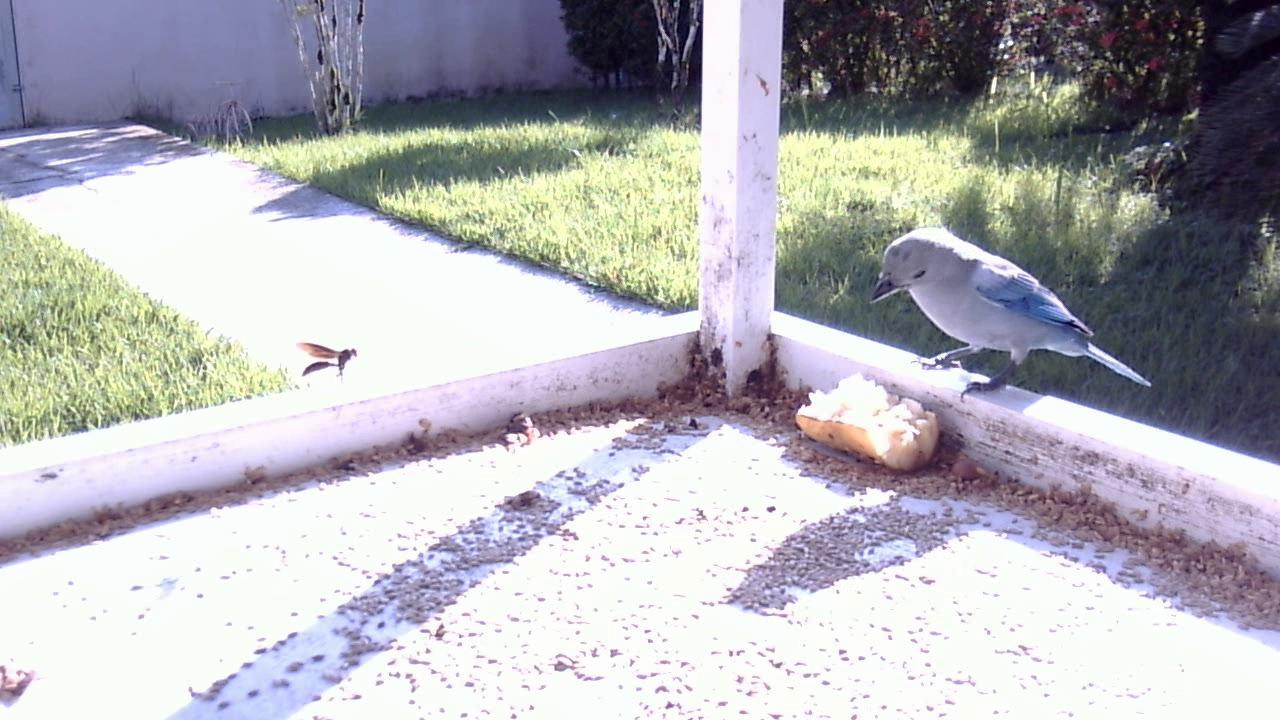sanhaco_da_amazonia: (868, 220, 1158, 414)
